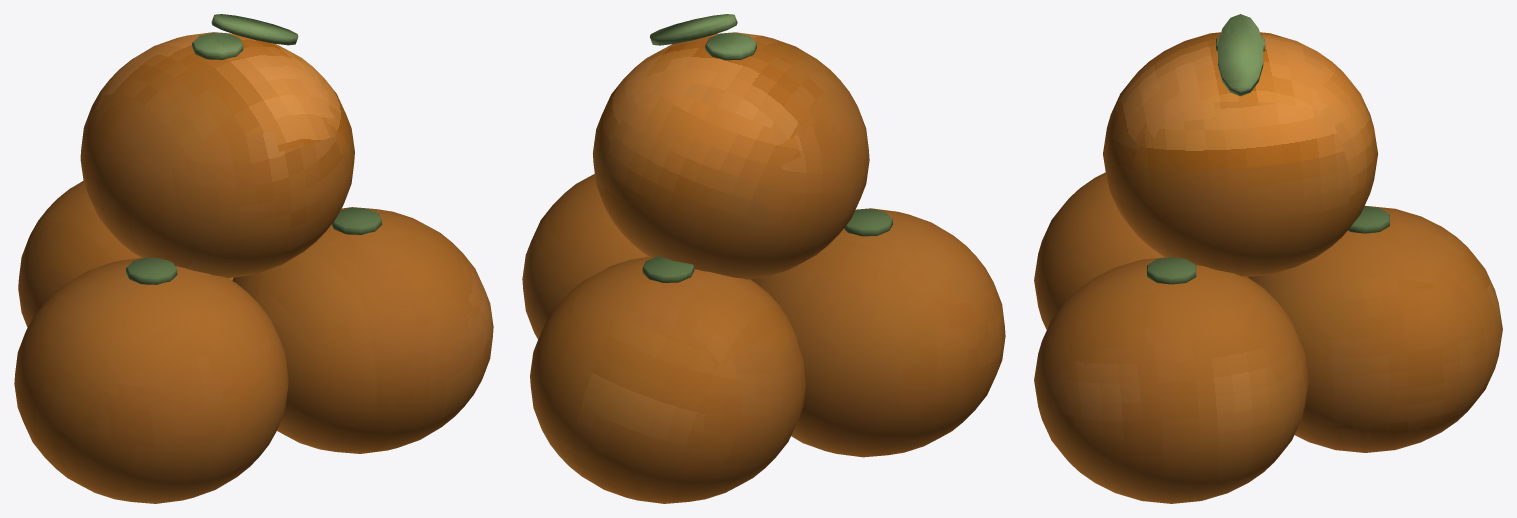
File: mikan.glb
3 views of the same model, side by side, from view 1: azimuth 30°, elevation 25°; view 2: azimuth 150°, elevation 25°; view 3: azimuth 270°, elevation 25° (orthographic).
Parts seen in each view (by area): view 1: mikan_felt_orange, mikan_felt_green; view 2: mikan_felt_orange, mikan_felt_green; view 3: mikan_felt_orange, mikan_felt_green.
Boxes of the visible parts, left/top/right/bottom form: mikan_felt_orange: left=14, top=32, right=493, bottom=503; mikan_felt_green: left=126, top=14, right=381, bottom=284; mikan_felt_orange: left=522, top=32, right=1005, bottom=503; mikan_felt_green: left=642, top=14, right=892, bottom=282; mikan_felt_orange: left=1034, top=32, right=1502, bottom=503; mikan_felt_green: left=1147, top=14, right=1389, bottom=284.
Bounding box in the file's own units: 0.1785 × 0.1629 × 0.1635.
Materials: 2 (2 with a texture image).
